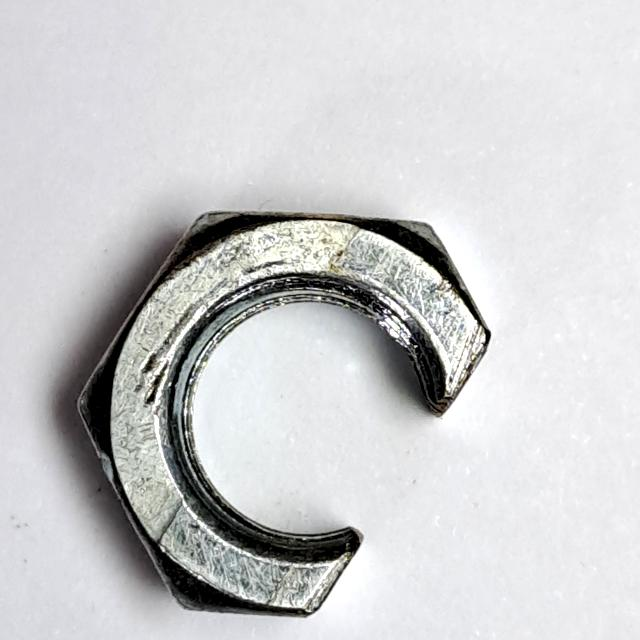Fracture: (64, 199, 505, 631)
